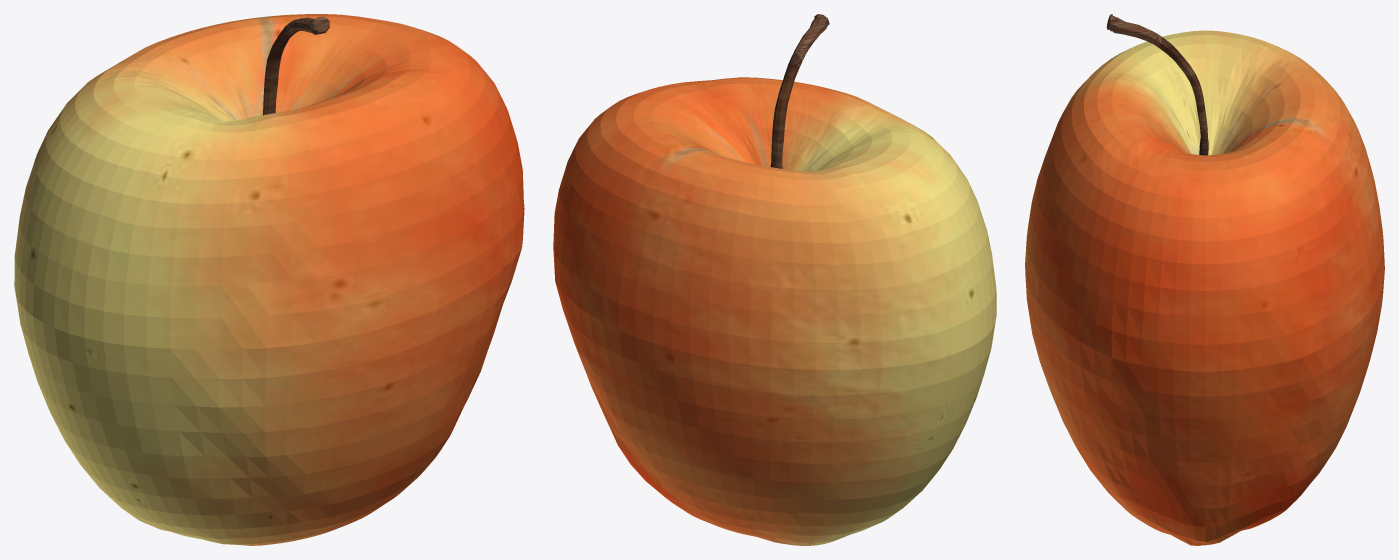
File: apple4.obj
3 renders of one model, left to right at view 1: azimuth 30°, elevation 25°; view 2: azimuth 150°, elevation 25°; view 3: azimuth 270°, elevation 25°, orthographic. The views are drawn at different scales.
Visible parts, largest first — view 1: apple_skin, apple_stem; view 2: apple_skin, apple_stem; view 3: apple_skin, apple_stem.
Boxes of the visible parts, left/top/right/bottom form: apple_skin: left=14, top=14, right=524, bottom=545; apple_stem: left=263, top=16, right=329, bottom=115; apple_skin: left=553, top=77, right=996, bottom=545; apple_stem: left=770, top=14, right=829, bottom=168; apple_skin: left=1025, top=30, right=1384, bottom=545; apple_stem: left=1106, top=14, right=1208, bottom=155.
Size of the model in its own units: 804 by 894 by 589.
Materials: 2 (2 with a texture image).
